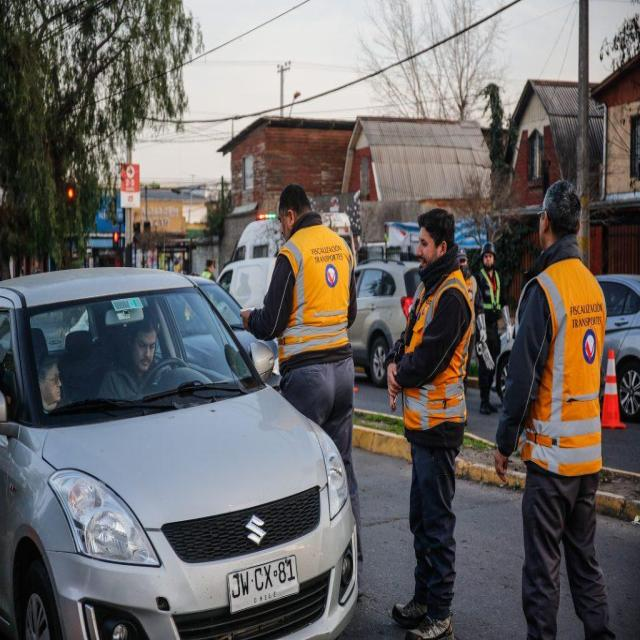patente: (226, 553, 300, 614)
